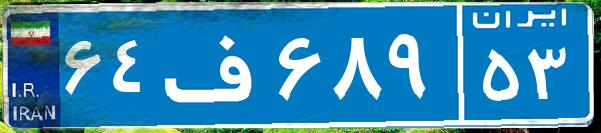3: (525, 38, 570, 115)
4: (110, 28, 158, 105)
5: (475, 38, 525, 113)
6: (273, 28, 330, 110), (57, 26, 110, 107)
8: (330, 28, 385, 110)
9: (385, 28, 445, 110)
ف: (158, 15, 273, 115)
